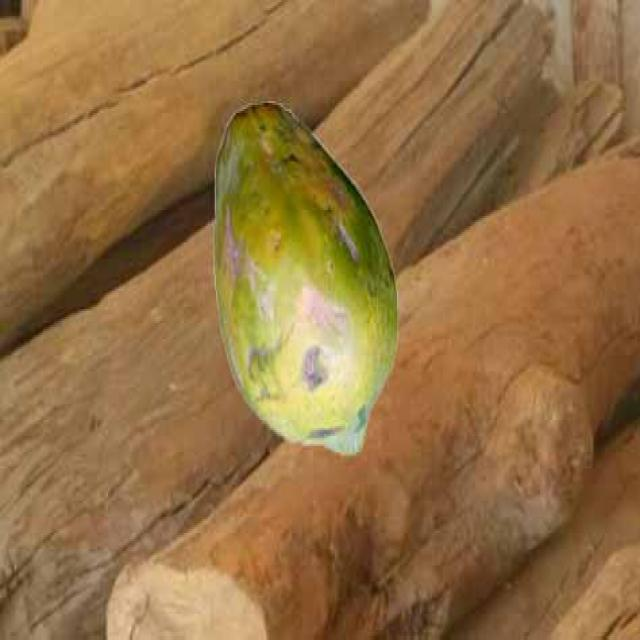Pepaya rippen: (200, 85, 401, 466)
